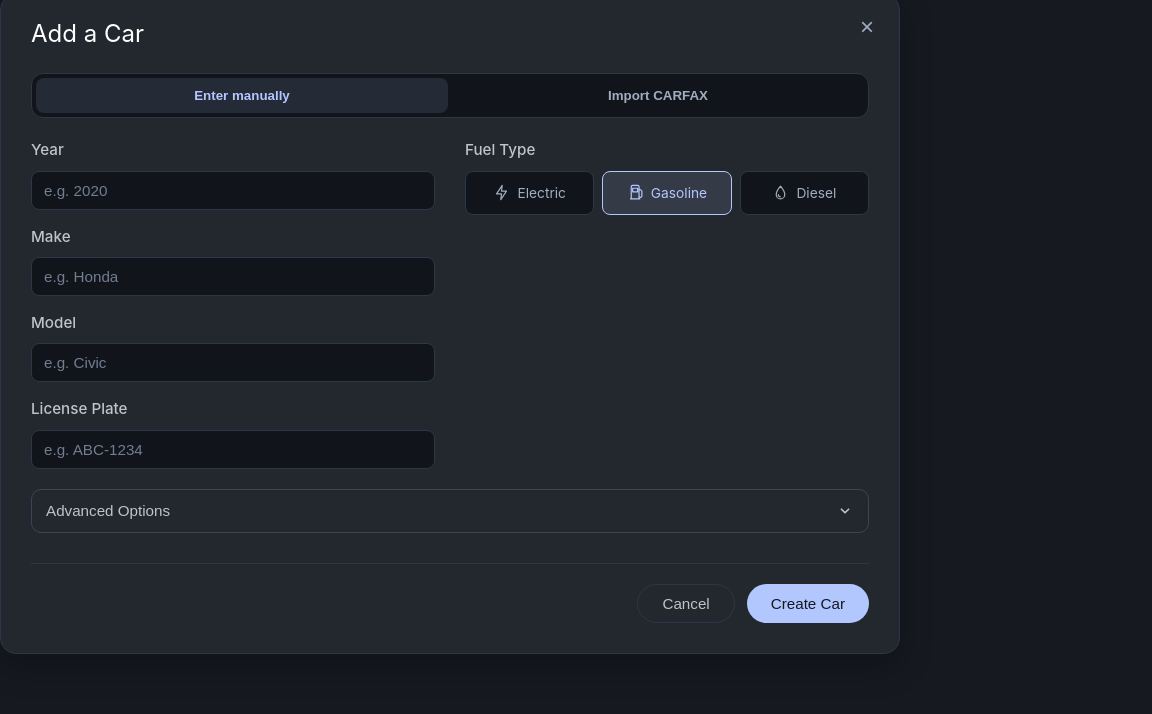
Test case: CarForm › normalizes and validates the VIN check digit
Click the button with class "advanced-toggle" at (108,511), box [32,490,868,532]
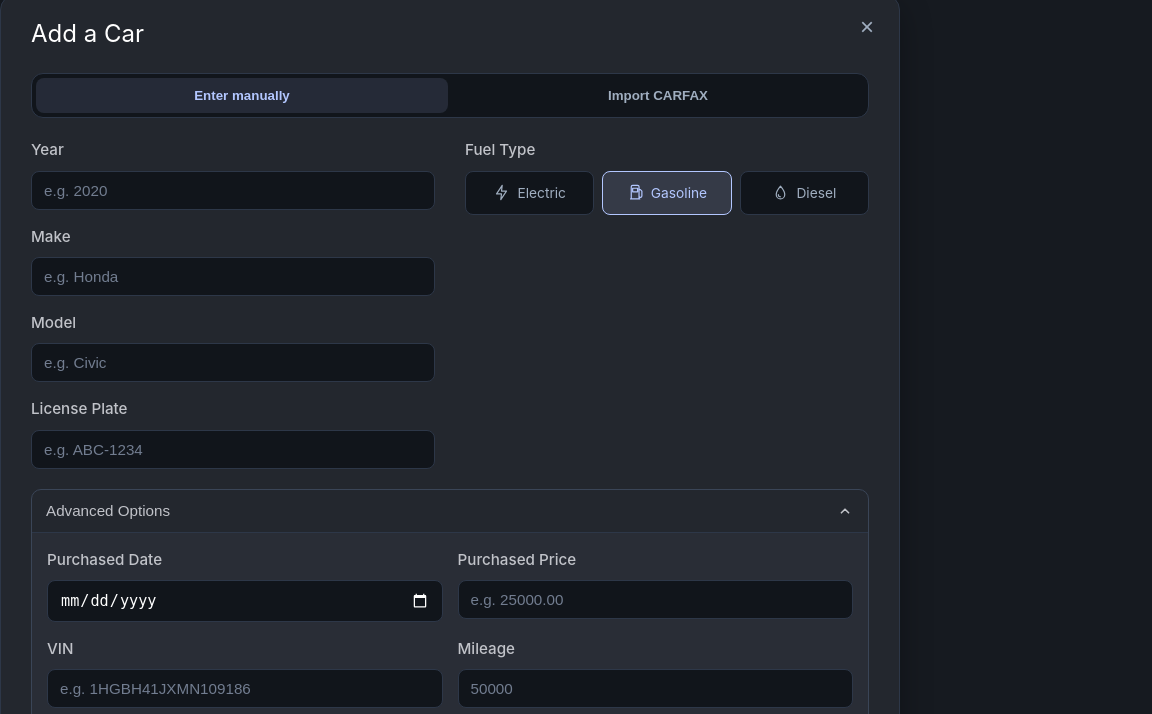
Type "1hg cm82633a004352" into the field with placeholder "e.g. 1HGBH41JXMN109186" at (245,689), box [47,669,442,708]
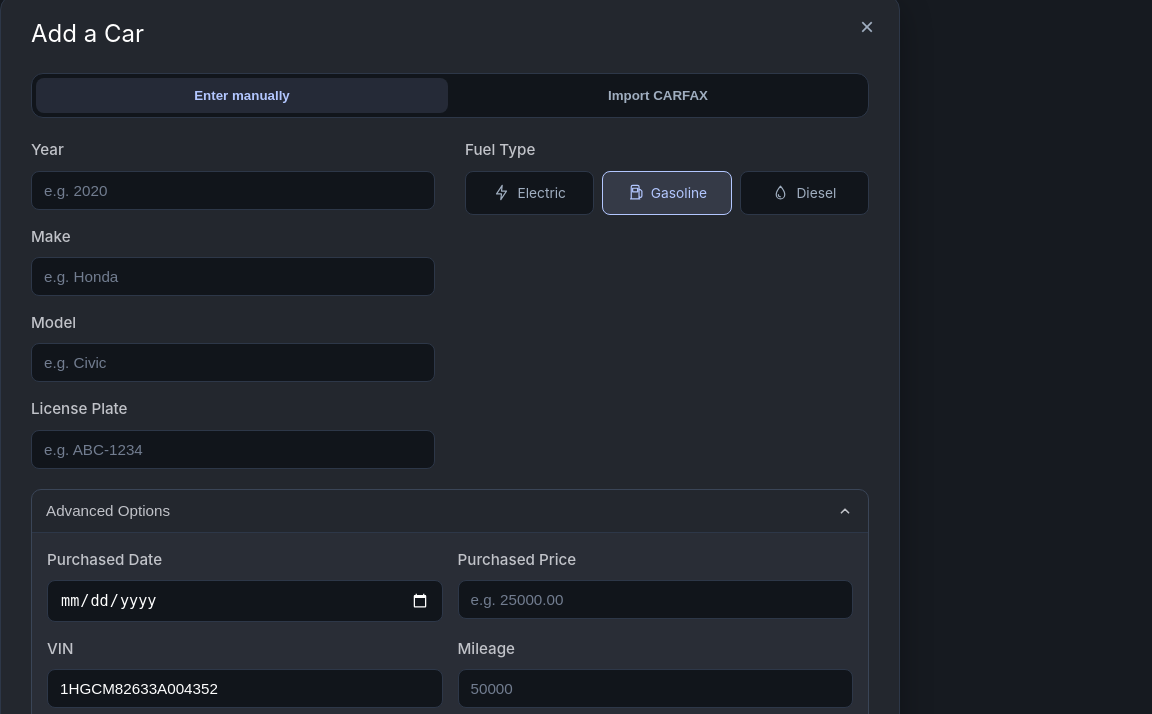
Leave the 6th field, box [47,669,442,708]
Expected: the 6th field holds "1HGCM82633A004352"
Replace the text in the 6th field with "1HGCM82643A004352" at (245,689), box [47,669,442,708]
(page scrolled)
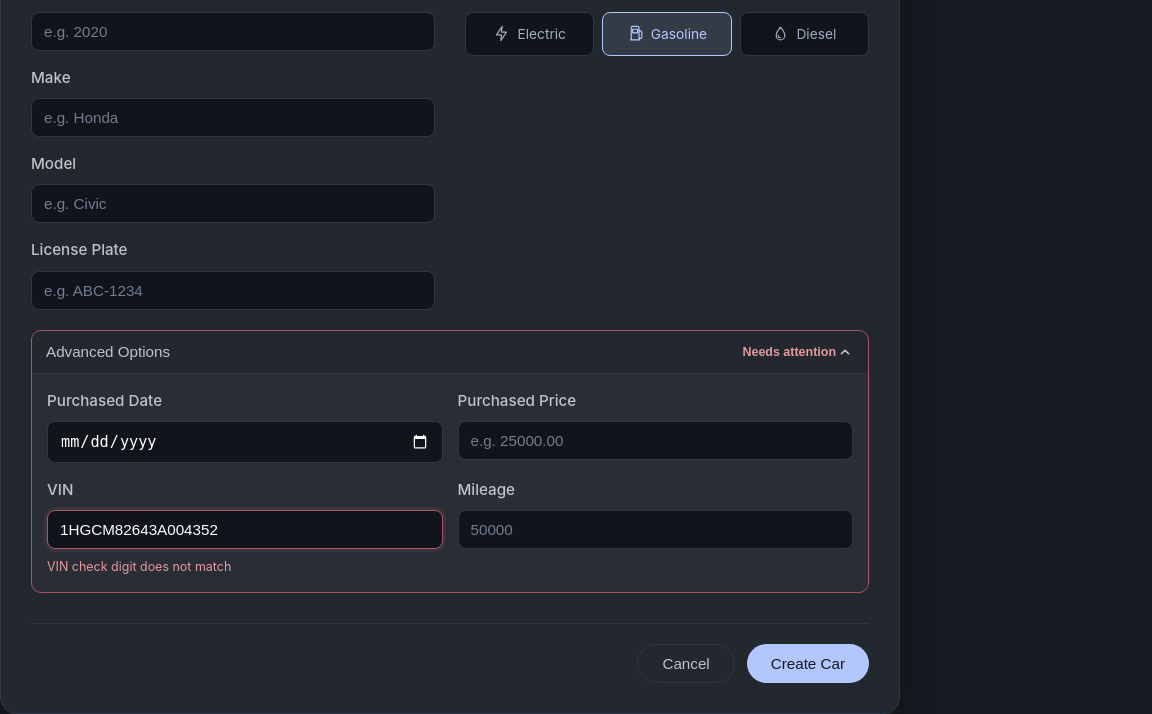
Expected: the text with class "field-error" reads "VIN check digit does not match", [47,559,231,574]
